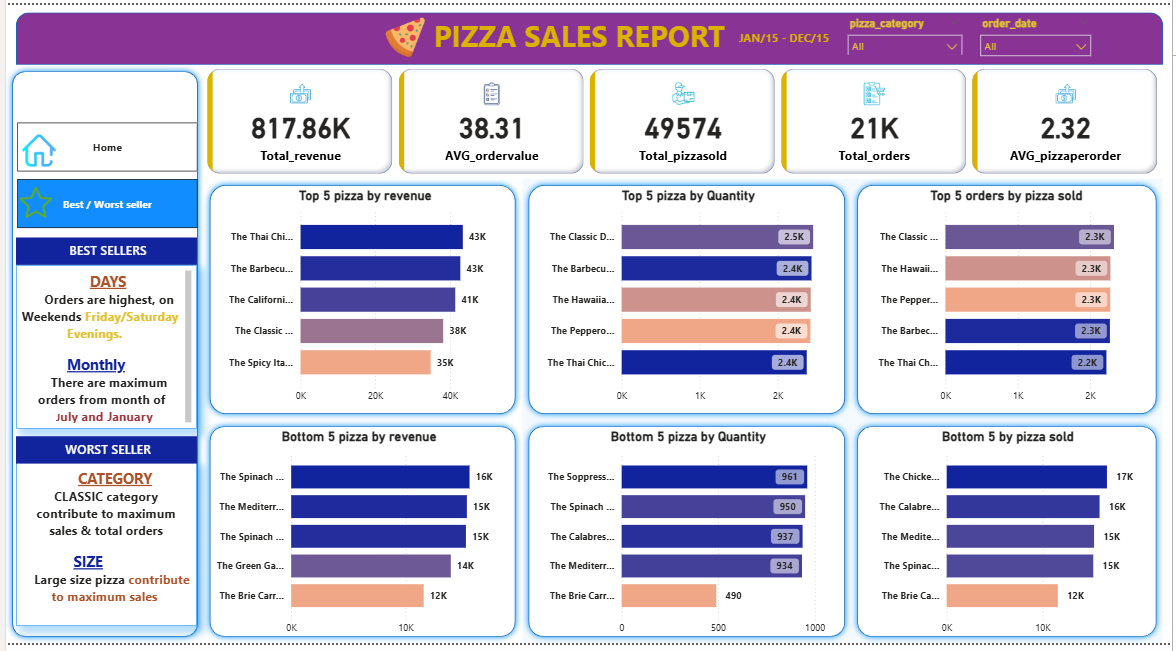

The dashboard page shown, as its layout file describes it:
{"tool":"powerbi","page":{"name":"Best / Worst seller","canvas":[1500,820],"ordinal":1},"visuals":[{"type":"cardVisual","fields":{"Data":["AMeasures.Total_revenue","AMeasures.AVG_ordervalue","AMeasures.Total_pizzasold","AMeasures.Total_orders","AMeasures.AVG_pizzaperorder"]},"box":[254.3,77.1,1234.3,145.7],"z":0},{"type":"shape","box":[12.9,10,1475.7,67.1],"z":1000},{"type":"textbox","box":[545.7,10,410,67.1],"z":2000},{"type":"textbox","box":[937.1,27.1,134.3,32.9],"z":3000},{"type":"image","box":[482.9,4.3,62.9,72.9],"z":4000},{"type":"shape","box":[254.9,222.8,409.4,310.6],"z":5000},{"type":"shape","box":[664.3,222.8,423.4,310.6],"z":6000},{"type":"shape","box":[0,76.6,254.9,743.7],"z":7000},{"type":"textbox","box":[12.5,299.4,232.6,34.8],"z":8000},{"type":"textbox","box":[12.5,334.2,232.6,210.3],"z":9000},{"type":"textbox","box":[12.5,589.1,232.6,210.3],"z":10000},{"type":"textbox","box":[12.5,554.3,232.6,34.8],"z":11000},{"type":"slicer","fields":{"Values":["pizza_sales.pizza_category"]},"box":[1072.6,9.6,167.2,54.7],"z":12000},{"type":"slicer","fields":{"Values":["pizza_sales.order_date"]},"box":[1243.7,9.7,162.9,66.8],"z":13000},{"type":"shape","box":[1087.7,222.8,401.1,310.6],"z":14000},{"type":"shape","box":[254.9,533.4,409.4,286.9],"z":15000},{"type":"shape","box":[664.3,533.4,423.4,286.9],"z":16000},{"type":"shape","box":[1087.7,533.4,401.1,286.9],"z":17000},{"type":"barChart","title":"Top 5 pizza by revenue","fields":{"Y":["AMeasures.Total_revenue"],"Category":["pizza_sales.pizza_name"]},"box":[270.2,235.4,384.4,286.9],"z":18000},{"type":"barChart","title":"Top 5 pizza by Quantity","fields":{"Category":["pizza_sales.pizza_name"],"Y":["AMeasures.Total_pizzasold"]},"box":[679.6,235.4,395.5,286.9],"z":19000},{"type":"barChart","title":"Top 5 orders by pizza sold","fields":{"Category":["pizza_sales.pizza_name"],"Y":["AMeasures.Total_orders"]},"box":[1104.4,235.4,364.9,286.9],"z":20000},{"type":"barChart","title":"Bottom 5 pizza by revenue","fields":{"Y":["AMeasures.Total_revenue"],"Category":["pizza_sales.pizza_name"]},"box":[254.1,545.1,400.4,275],"z":21000},{"type":"barChart","title":"Bottom 5 pizza by Quantity","fields":{"Category":["pizza_sales.pizza_name"],"Y":["AMeasures.Total_pizzasold"]},"box":[680.2,545.1,395.6,275],"z":22000},{"type":"pageNavigator","box":[13.9,150.4,232.6,137.9],"z":23000},{"type":"barChart","title":"Bottom 5 by pizza sold","fields":{"Y":["AMeasures.Total_revenue"],"Category":["pizza_sales.pizza_name"]},"box":[1106.4,545.1,365,275],"z":24000},{"type":"image","box":[15.3,150.4,52.9,72.4],"z":25000},{"type":"image","box":[12.5,222.8,51.5,61.3],"z":26000}]}

Visuals, with their boxes in screenshot pixels (x1, y1, x2, y2), scaled from the page's 1500x820 canvas onto the 1176x651 screenshot:
cardVisual - AMeasures.Total_revenue x AMeasures.AVG_ordervalue: 199 61 1167 177
shape: 10 8 1167 61
textbox: 428 8 749 61
textbox: 735 22 840 48
image: 379 3 428 61
shape: 200 177 521 423
shape: 521 177 853 423
shape: 0 61 200 650
textbox: 10 238 192 265
textbox: 10 265 192 432
textbox: 10 468 192 635
textbox: 10 440 192 468
slicer - pizza_sales.pizza_category: 841 8 972 51
slicer - pizza_sales.order_date: 975 8 1103 61
shape: 853 177 1167 423
shape: 200 423 521 650
shape: 521 423 853 650
shape: 853 423 1167 650
"Top 5 pizza by revenue" barChart: 212 187 513 415
"Top 5 pizza by Quantity" barChart: 533 187 843 415
"Top 5 orders by pizza sold" barChart: 866 187 1152 415
"Bottom 5 pizza by revenue" barChart: 199 433 513 650
"Bottom 5 pizza by Quantity" barChart: 533 433 843 650
pageNavigator: 11 119 193 229
"Bottom 5 by pizza sold" barChart: 867 433 1154 650
image: 12 119 53 177
image: 10 177 50 226
